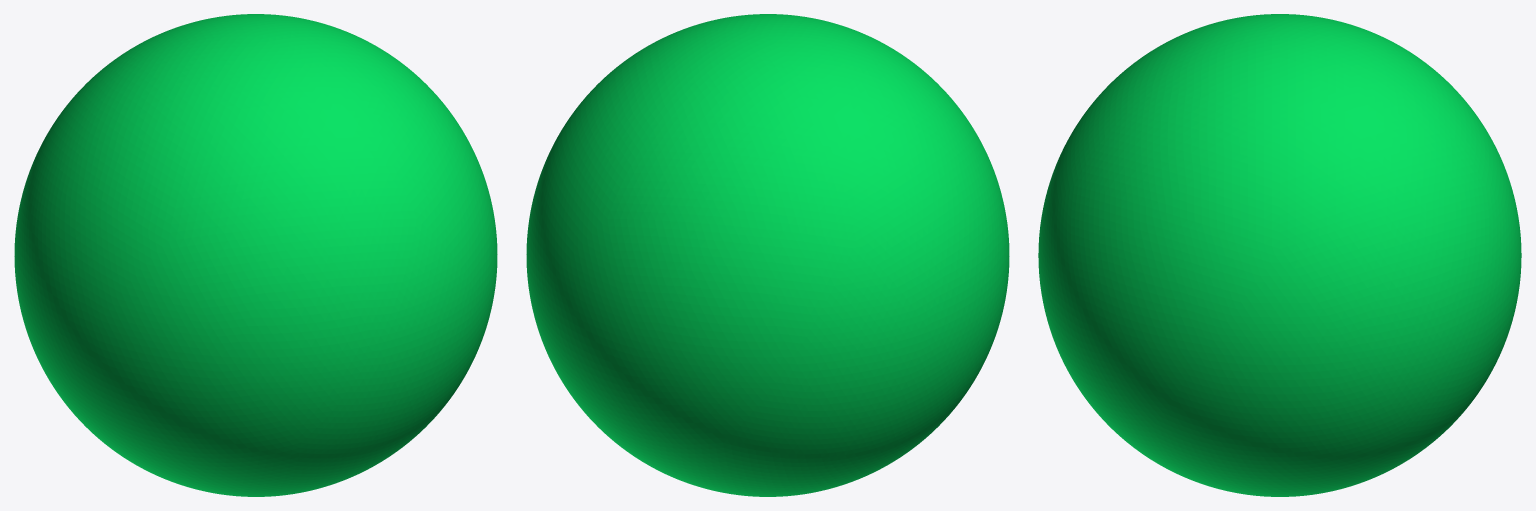
The picture shows the model from 3 angles, left to right: view 1: azimuth 30°, elevation 25°; view 2: azimuth 150°, elevation 25°; view 3: azimuth 270°, elevation 25°; orthographic projection.
Visible parts, largest first — view 1: Sphere; view 2: Sphere; view 3: Sphere.
Part boxes in pixels (box(x1,y1,x2,y2)): Sphere: box(14, 14, 497, 496); Sphere: box(526, 14, 1009, 496); Sphere: box(1038, 14, 1521, 496).
Size of the model in its own units: 0.5379 by 0.5379 by 0.5379.
